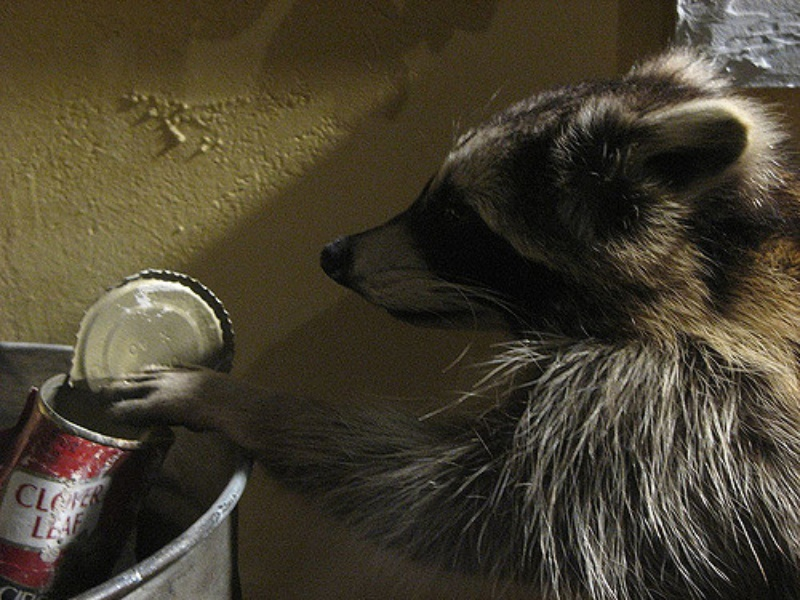raccoon: (105, 30, 796, 597)
